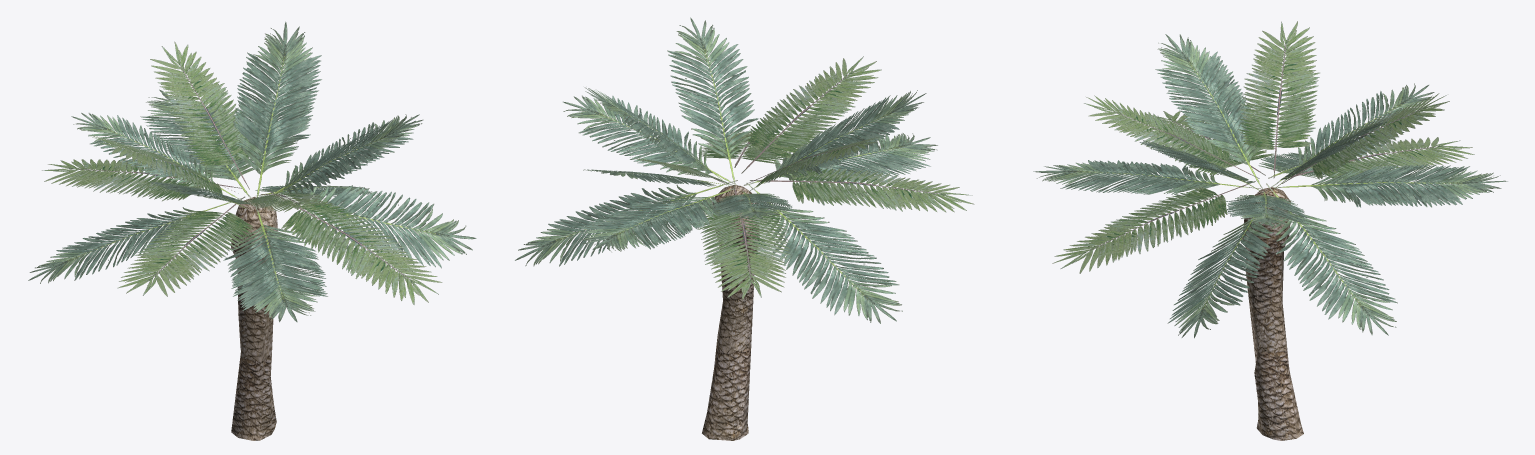
Rendered from palm_tree_8_LOD1.FBX.
3 views of the same model, side by side, from view 1: azimuth 30°, elevation 25°; view 2: azimuth 150°, elevation 25°; view 3: azimuth 270°, elevation 25° (orthographic). The views are drawn at different scales.
Parts seen in each view (by area): view 1: leaves006, bark007; view 2: leaves006, bark007; view 3: leaves006, bark007.
Boxes of the visible parts, box(x1,y1,x2,y2) form: leaves006: box(28, 21, 476, 322); bark007: box(231, 196, 277, 440); leaves006: box(515, 17, 974, 323); bark007: box(702, 185, 759, 440); leaves006: box(1033, 21, 1507, 338); bark007: box(1242, 187, 1303, 440).
Bounding box in the file's own units: 8.09 × 8.52 × 6.64.
